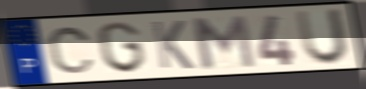4: (255, 12, 298, 68)
C: (45, 25, 97, 76)
G: (95, 20, 148, 75)
K: (148, 19, 196, 71)
M: (188, 14, 259, 71)
U: (293, 7, 351, 68)
